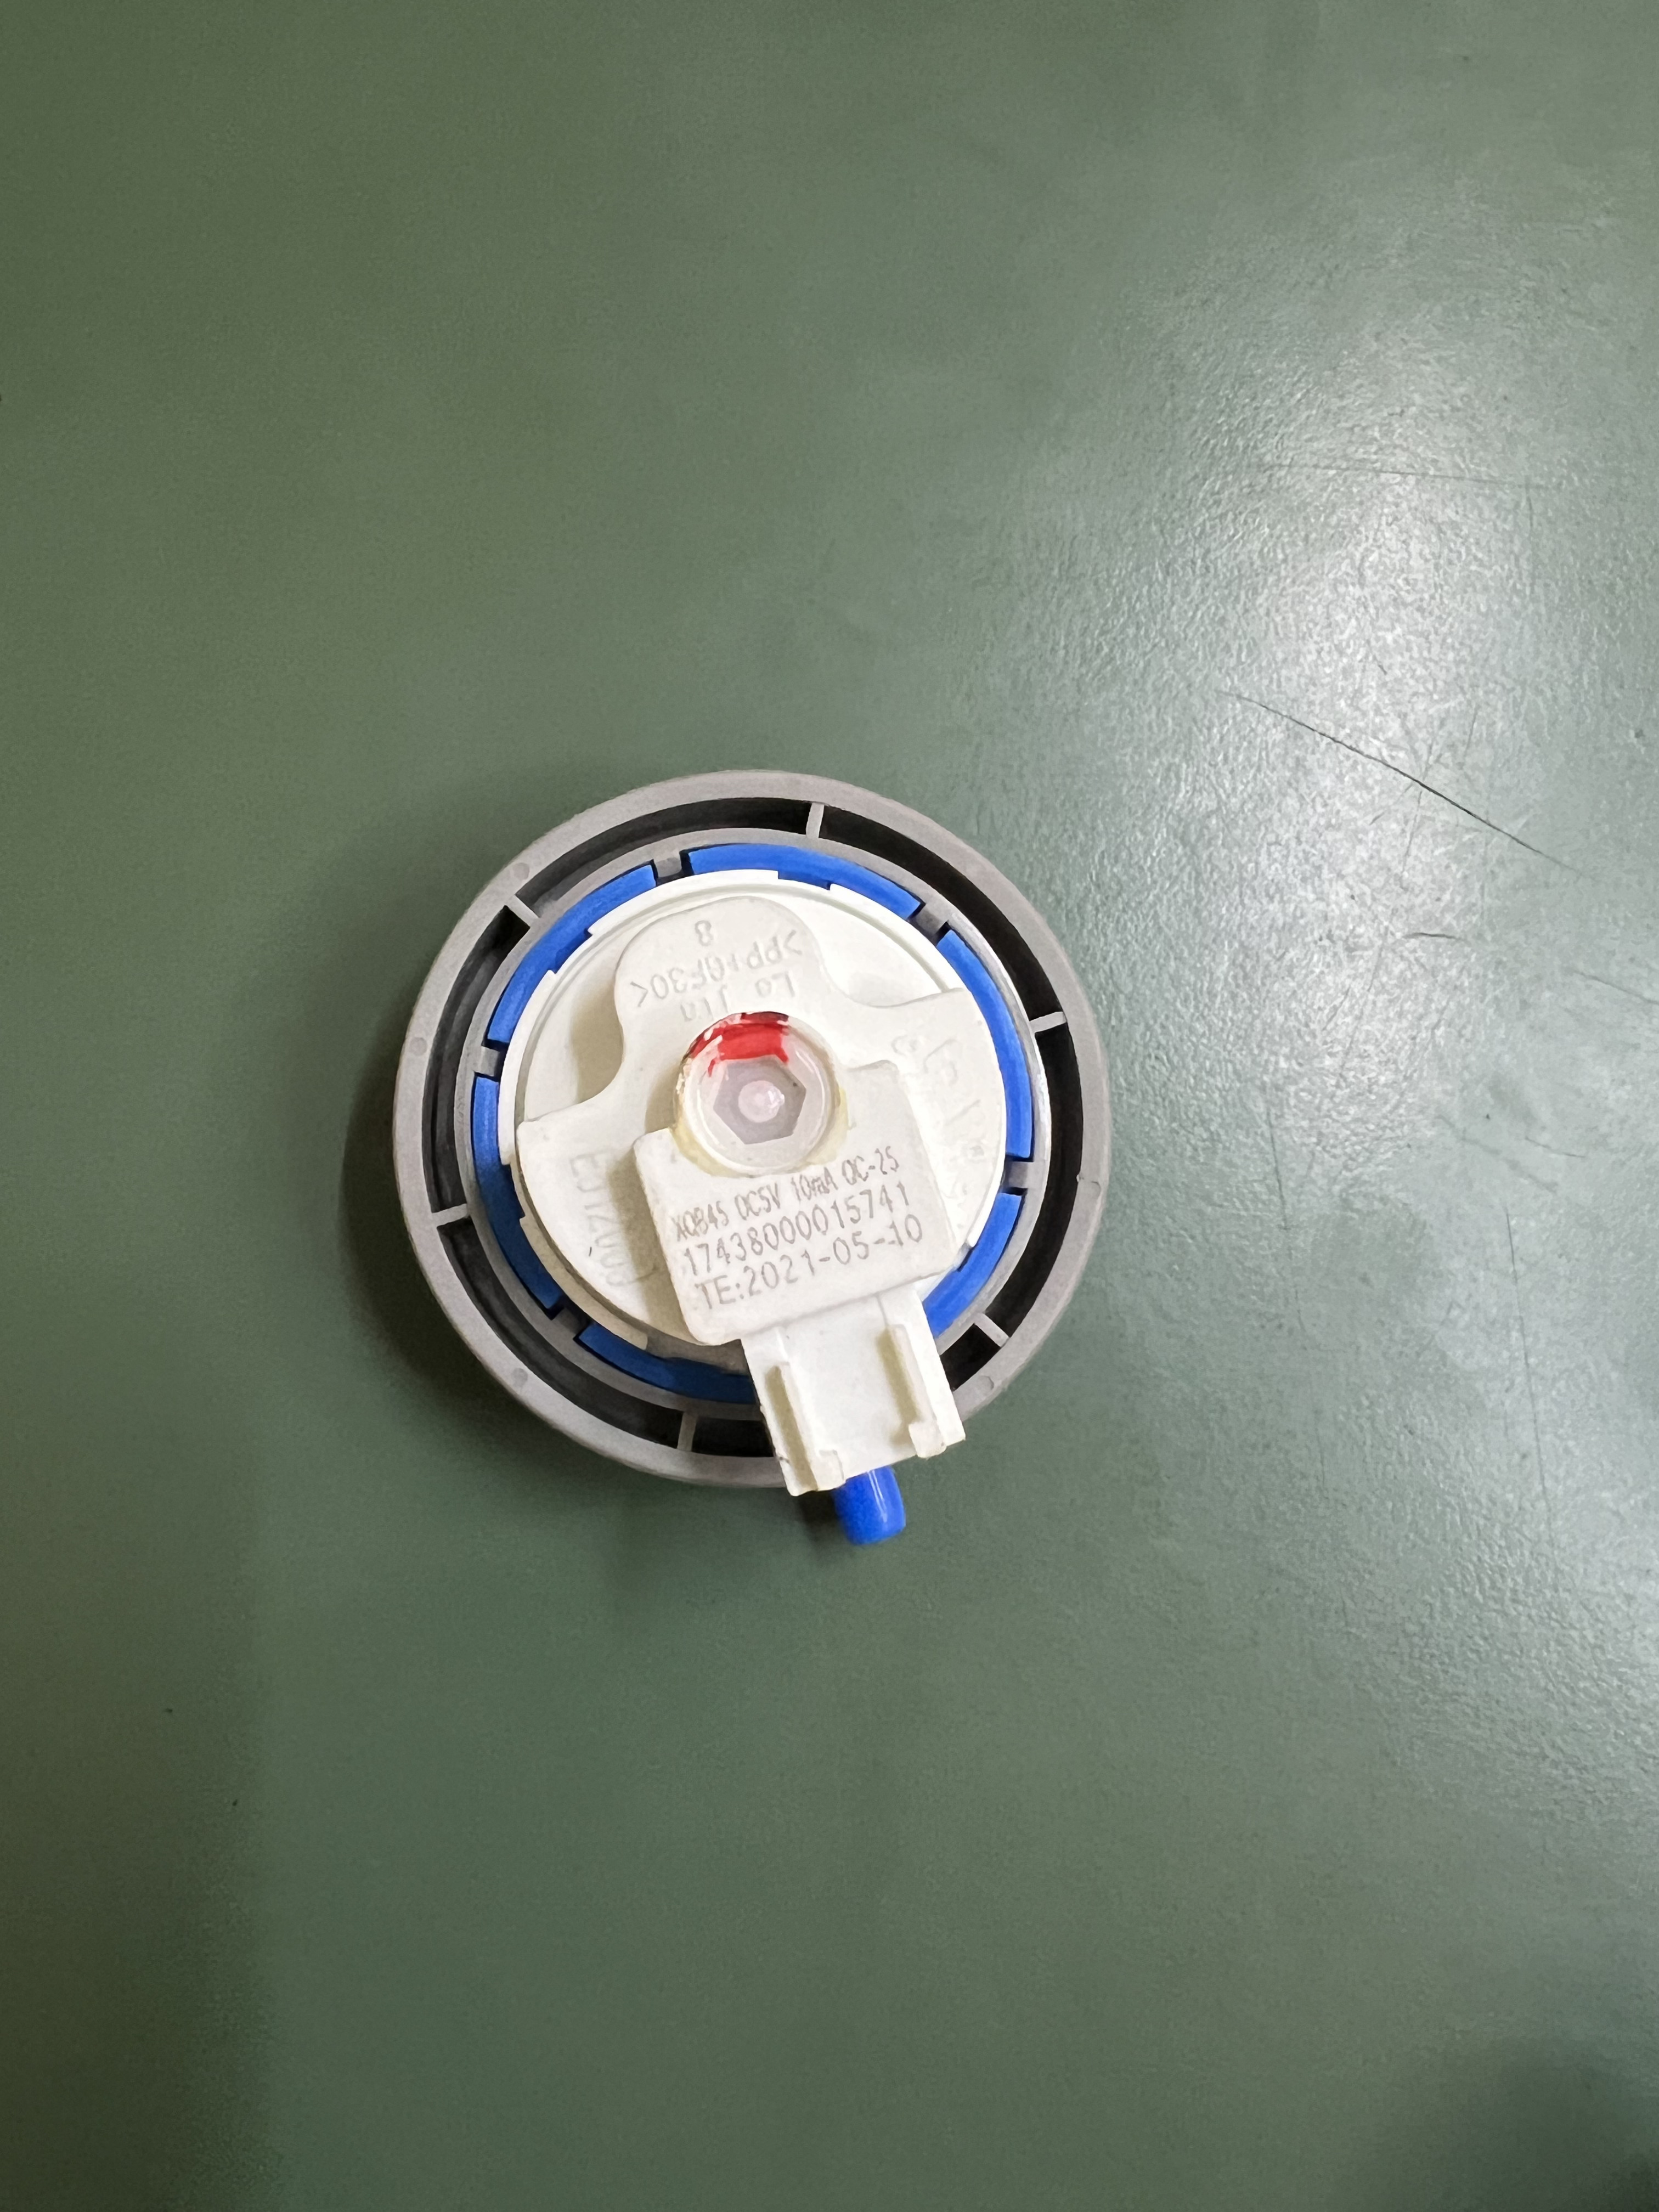pressure_sensor: (401, 763, 1117, 1561)
